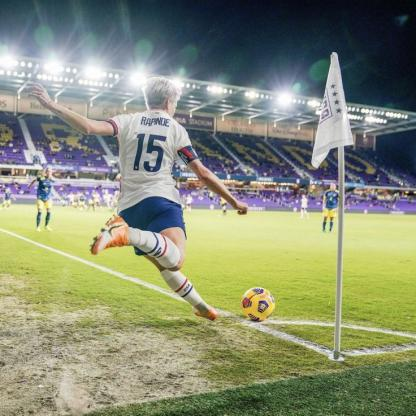corner kick: (103, 38, 392, 378)
